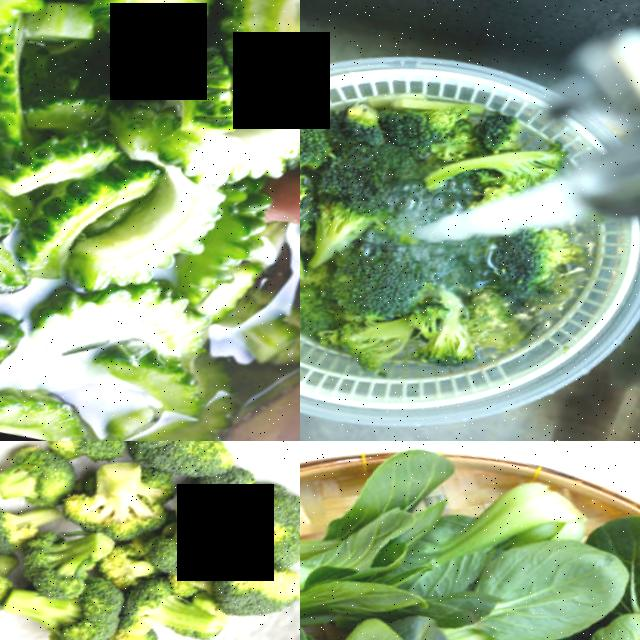bitter gourd: (0, 0, 300, 206)
bok choy: (300, 501, 431, 640)
broccoli: (326, 240, 430, 334), (167, 505, 267, 597), (82, 459, 181, 549), (26, 519, 130, 603), (4, 577, 140, 640), (0, 441, 96, 523), (138, 579, 247, 640), (233, 539, 300, 637), (134, 441, 256, 494), (334, 90, 426, 159), (25, 441, 155, 478), (300, 121, 337, 240), (0, 503, 44, 558), (0, 541, 27, 629)
